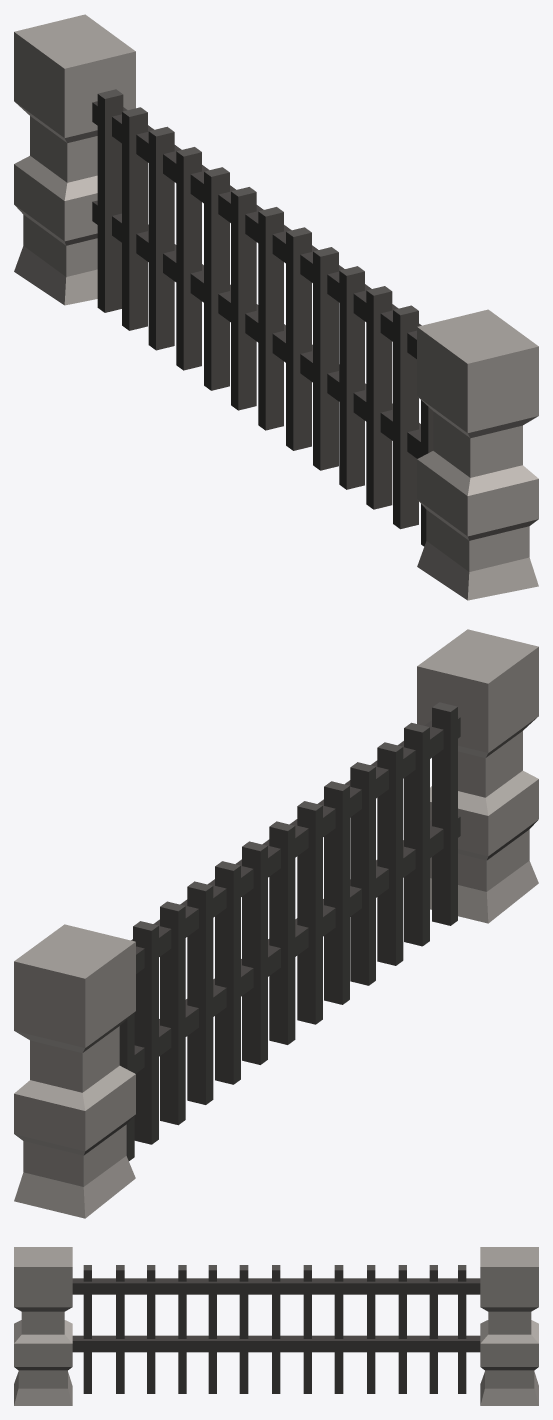
File: Fence_Iron_01.fbx
3 views of the same model, one above another, from view 1: azimuth 30°, elevation 25°; view 2: azimuth 150°, elevation 25°; view 3: azimuth 270°, elevation 25° (orthographic). The views are drawn at different scales.
Visible parts, largest first — view 1: Fence_Iron_01; view 2: Fence_Iron_01; view 3: Fence_Iron_01.
Boxes of the visible parts, bbox=[...] form: Fence_Iron_01: bbox=[14, 14, 538, 600]; Fence_Iron_01: bbox=[14, 629, 538, 1218]; Fence_Iron_01: bbox=[14, 1247, 538, 1405].
Size of the model in its own units: 0.4839 by 5.33 by 1.56.
